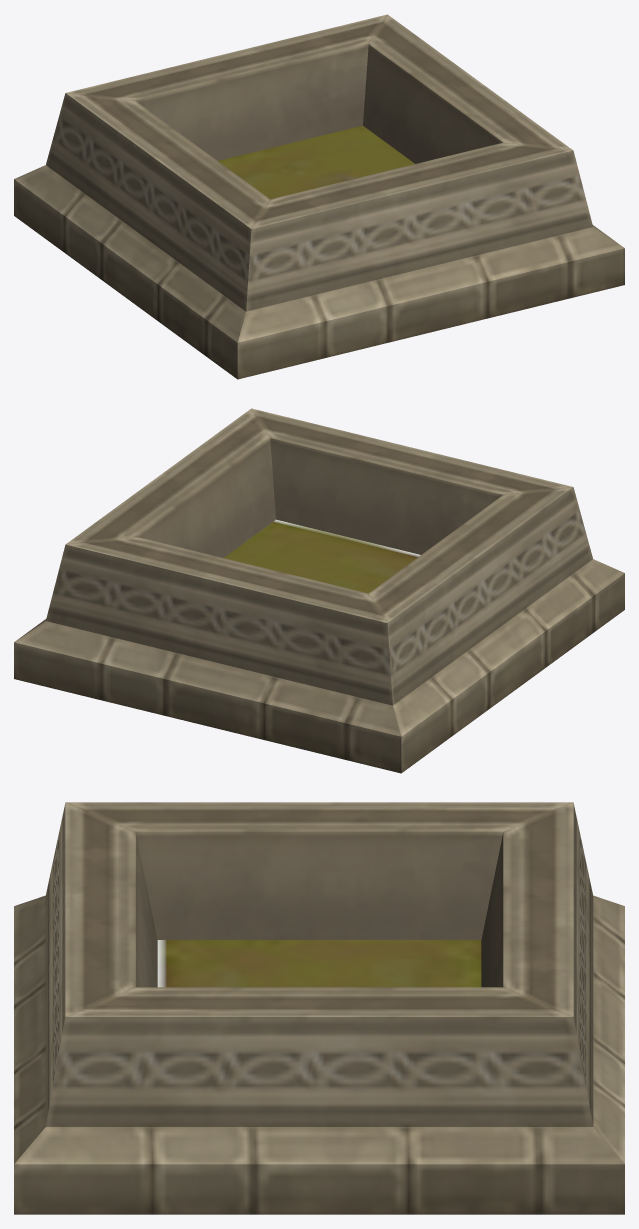
File: tree_fence_3.FBX
3 renders of one model, top to bottom at view 1: azimuth 30°, elevation 25°; view 2: azimuth 150°, elevation 25°; view 3: azimuth 270°, elevation 25°, orthographic. The views are drawn at different scales.
Visible parts, largest first — view 1: tree_fence_3; view 2: tree_fence_3; view 3: tree_fence_3.
Part boxes in pixels (x1,y1,x2,y2): tree_fence_3: (14,14,624,379); tree_fence_3: (14,408,624,773); tree_fence_3: (14,802,624,1214).
Bounding box in the file's own units: 30.87 × 30.87 × 9.8.
